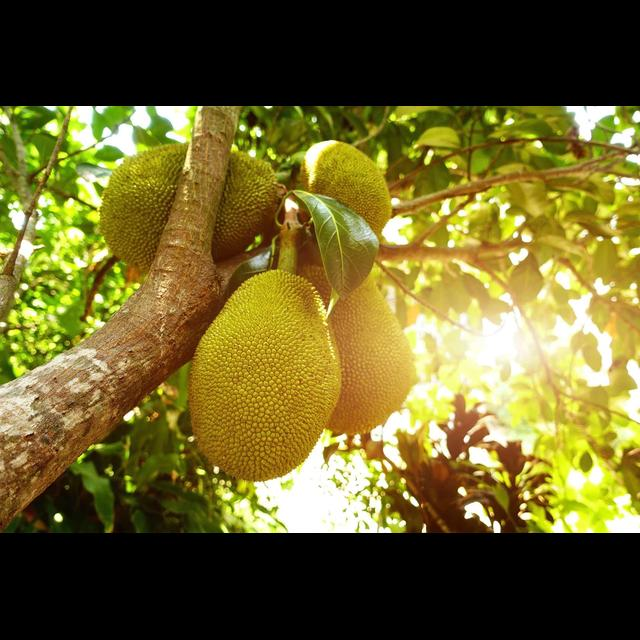mit: (188, 268, 341, 485), (99, 143, 287, 267), (322, 267, 419, 434), (293, 143, 399, 237)
